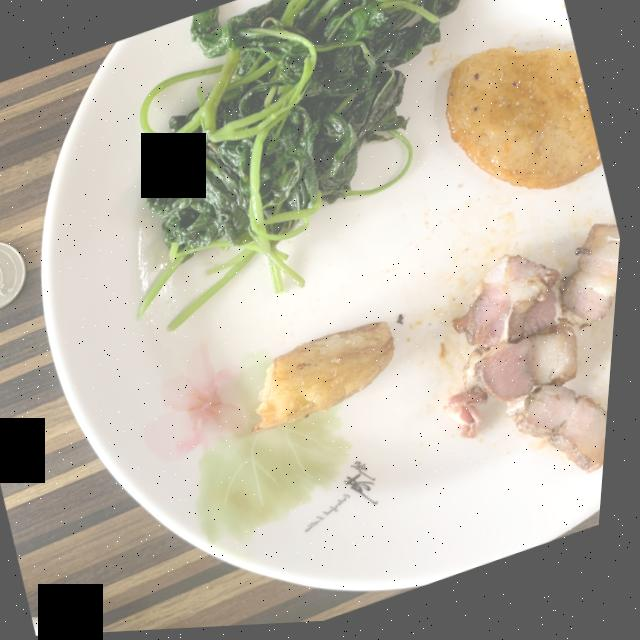coin: (0, 240, 30, 308)
fish cake: (447, 51, 605, 194)
fried potato: (258, 324, 399, 435)
grilled pork: (451, 229, 624, 478)
sweet potato leaves: (140, 0, 461, 332)
